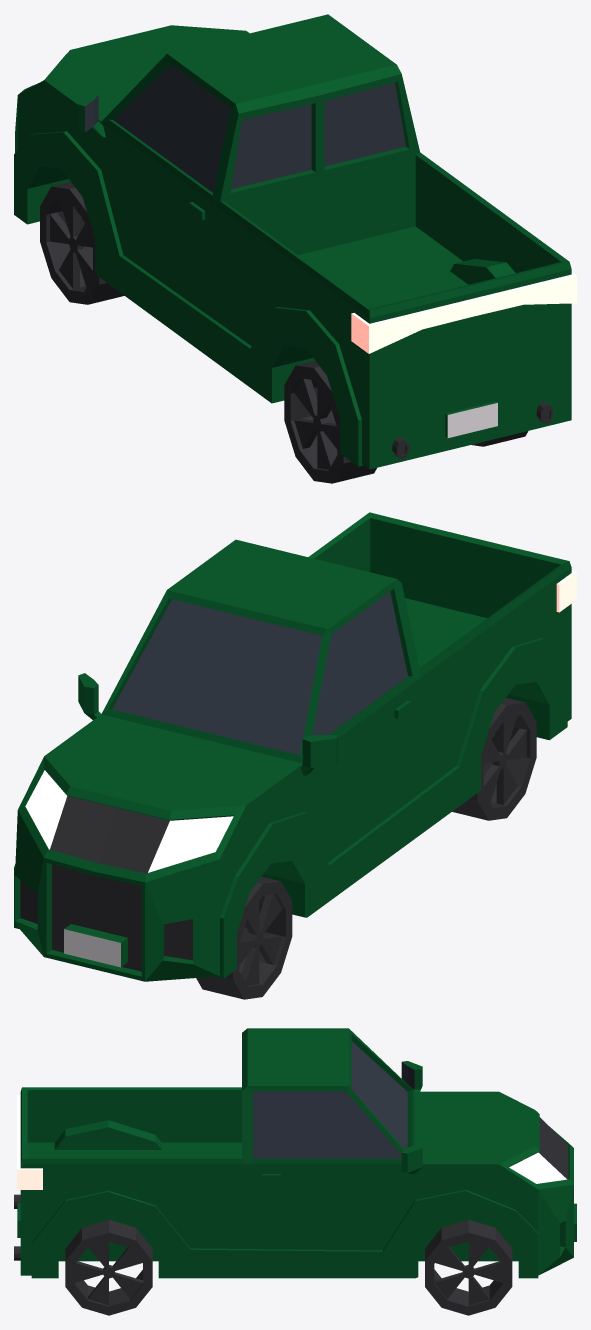
Rendered from rv_pickup.glb.
3 renders of one model, top to bottom at view 1: azimuth 30°, elevation 25°; view 2: azimuth 150°, elevation 25°; view 3: azimuth 270°, elevation 25°, orthographic. The views are drawn at different scales.
Visible parts, largest first — view 1: Body, WheelRL, WheelFL; view 2: Body, WheelFL, WheelRL; view 3: Body, WheelFR, WheelRR.
Boxes of the visible parts, bbox=[...] form: Body: bbox=[14, 14, 576, 469]; WheelRL: bbox=[284, 360, 376, 483]; WheelFL: bbox=[40, 182, 124, 304]; Body: bbox=[14, 512, 576, 981]; WheelFL: bbox=[196, 876, 292, 999]; WheelRL: bbox=[452, 698, 536, 820]; Body: bbox=[14, 1028, 576, 1278]; WheelFR: bbox=[425, 1220, 512, 1315]; WheelRR: bbox=[65, 1220, 152, 1315].
Bounding box in the file's own units: 1.95 × 2.19 × 5.
